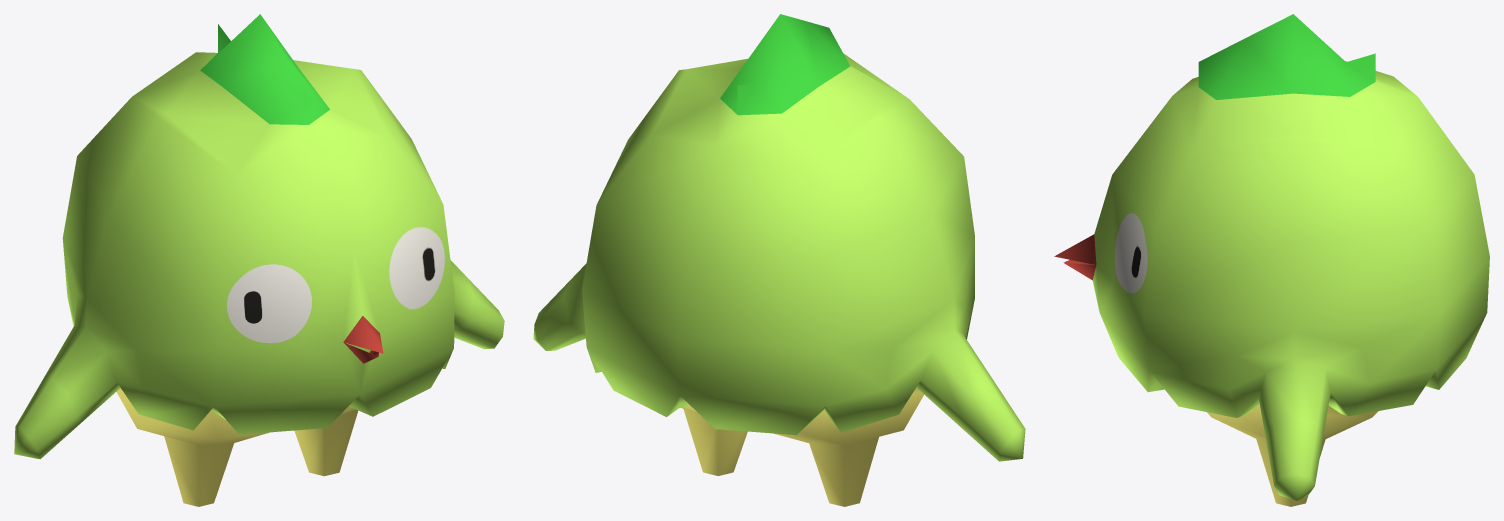
Rendered from chicpea.glb.
The picture shows the model from 3 angles, left to right: view 1: azimuth 30°, elevation 25°; view 2: azimuth 150°, elevation 25°; view 3: azimuth 270°, elevation 25°; orthographic projection. The views are drawn at different scales.
Parts seen in each view (by area): view 1: Roundcube.001; view 2: Roundcube.001; view 3: Roundcube.001.
Part boxes in pixels (x1,y1,x2,y2): Roundcube.001: (14,14,504,506); Roundcube.001: (533,14,1025,506); Roundcube.001: (1054,14,1489,506).
Bounding box in the file's own units: 1.74 × 1.6 × 1.39.
5 materials, 1 textured.
